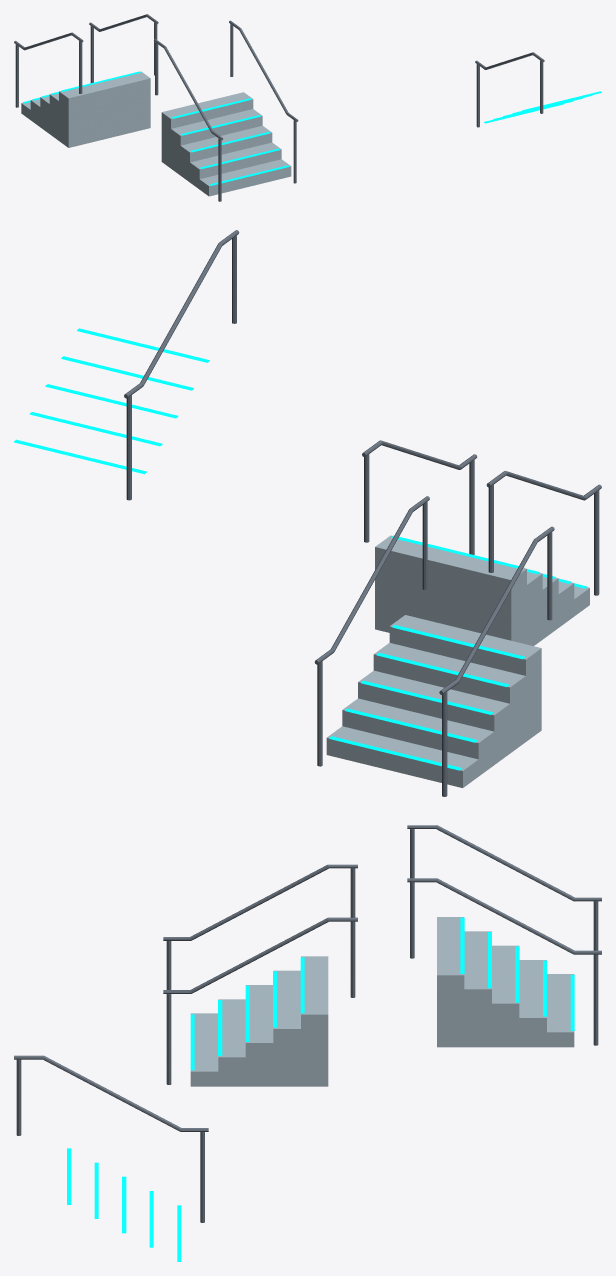
Rendered from tt_leisure_river_entries_a.glb.
3 renders of one model, top to bottom at view 1: azimuth 30°, elevation 25°; view 2: azimuth 150°, elevation 25°; view 3: azimuth 270°, elevation 25°, orthographic. The views are drawn at different scales.
Parts seen in each view (by area): view 1: River_Entry_Tile, Pool_RailPosts, Step_Nosing_Cyan, Pool_Handrail; view 2: River_Entry_Tile, Step_Nosing_Cyan, Pool_RailPosts, Pool_Handrail; view 3: River_Entry_Tile, Pool_Handrail, Step_Nosing_Cyan, Pool_RailPosts.
Boxes of the visible parts, bbox=[...] form: River_Entry_Tile: bbox=[21, 71, 291, 196]; Pool_RailPosts: bbox=[15, 22, 543, 201]; Step_Nosing_Cyan: bbox=[23, 71, 601, 185]; Pool_Handrail: bbox=[14, 14, 544, 140]; River_Entry_Tile: bbox=[326, 535, 589, 787]; Step_Nosing_Cyan: bbox=[14, 328, 587, 770]; Pool_RailPosts: bbox=[126, 235, 599, 796]; Pool_Handrail: bbox=[124, 230, 601, 694]; River_Entry_Tile: bbox=[190, 917, 574, 1086]; Pool_Handrail: bbox=[14, 825, 601, 1131]; Step_Nosing_Cyan: bbox=[67, 917, 574, 1261]; Pool_RailPosts: bbox=[16, 829, 598, 1222].
Size of what is drawn, in the model's own units: 6.92 by 1.87 by 5.98.
3 materials, 2 textured.
